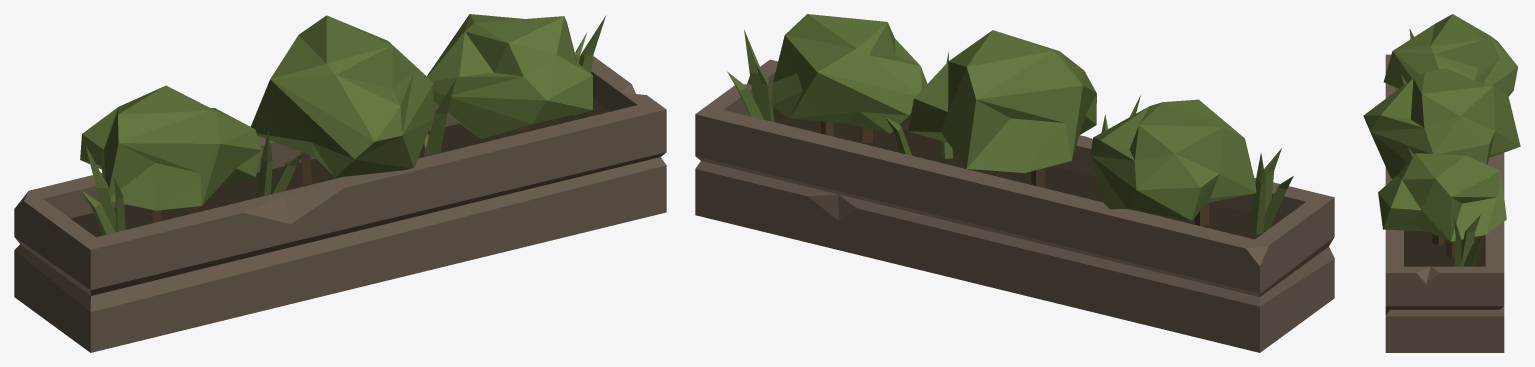
File: SM_Prop_Planter_01_671.obj
3 views of the same model, side by side, from view 1: azimuth 30°, elevation 25°; view 2: azimuth 150°, elevation 25°; view 3: azimuth 270°, elevation 25° (orthographic). The views are drawn at different scales.
Visible parts, largest first — view 1: SM_Prop_Planter_01_0; view 2: SM_Prop_Planter_01_0; view 3: SM_Prop_Planter_01_0.
Boxes of the visible parts, <box> form: SM_Prop_Planter_01_0: <box>14,14,666,352</box>; SM_Prop_Planter_01_0: <box>695,14,1334,352</box>; SM_Prop_Planter_01_0: <box>1363,14,1520,352</box>.
Bounding box in the file's own units: 2.3 × 0.81 × 0.7007.
Materials: 1 (1 with a texture image).
